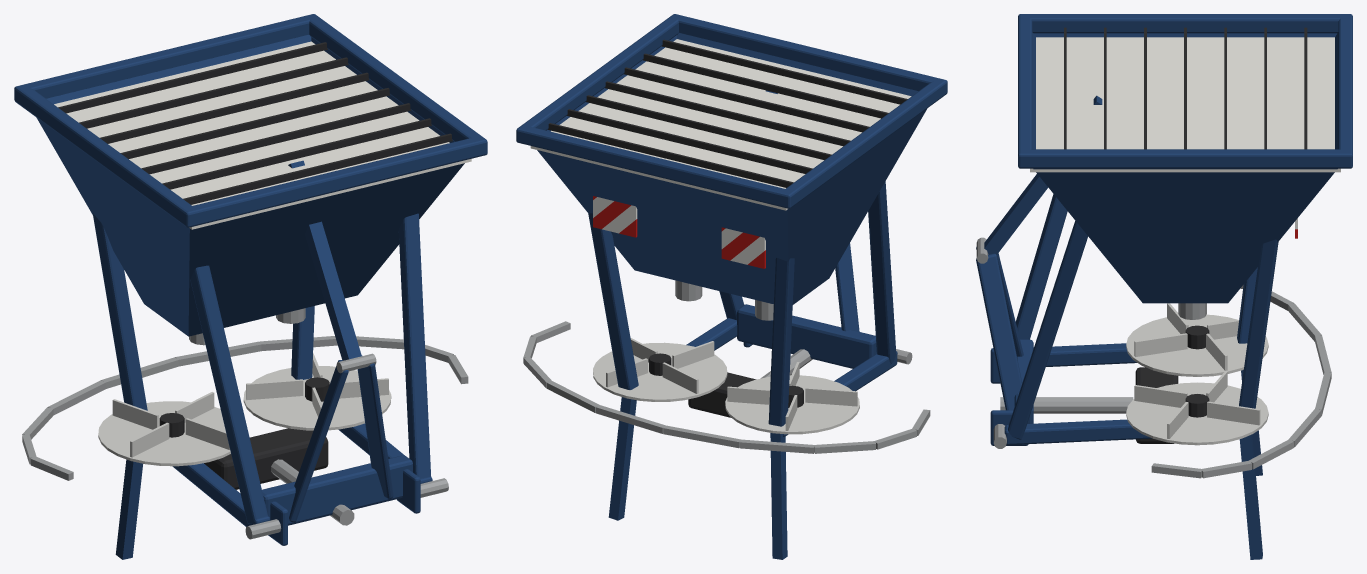
File: abonadora.glb
3 views of the same model, side by side, from view 1: azimuth 30°, elevation 25°; view 2: azimuth 150°, elevation 25°; view 3: azimuth 270°, elevation 25° (orthographic). The views are drawn at different scales.
Parts seen in each view (by area): view 1: bastidor, carga, rejilla, mecanica, disco_d, disco_i; view 2: bastidor, carga, rejilla, mecanica, disco_i, disco_d, senales; view 3: bastidor, carga, disco_i, mecanica, disco_d, rejilla.
Boxes of the visible parts, x1,y1,x2,y2 form: bastidor: [14, 14, 487, 559]; carga: [54, 41, 471, 229]; rejilla: [58, 42, 452, 204]; mecanica: [22, 308, 468, 525]; disco_d: [98, 392, 230, 466]; disco_i: [243, 353, 391, 430]; bastidor: [516, 14, 947, 559]; carga: [530, 39, 911, 210]; rejilla: [548, 39, 907, 187]; mecanica: [523, 280, 930, 453]; disco_i: [593, 338, 727, 401]; disco_d: [725, 362, 859, 434]; senales: [593, 196, 765, 268]; bastidor: [976, 14, 1352, 559]; carga: [1030, 37, 1340, 172]; disco_i: [1126, 371, 1268, 445]; mecanica: [1000, 285, 1331, 478]; disco_d: [1126, 303, 1268, 376]; rejilla: [1064, 27, 1307, 149].
Size of the model in its own units: 1.99 by 2.01 by 1.59.
